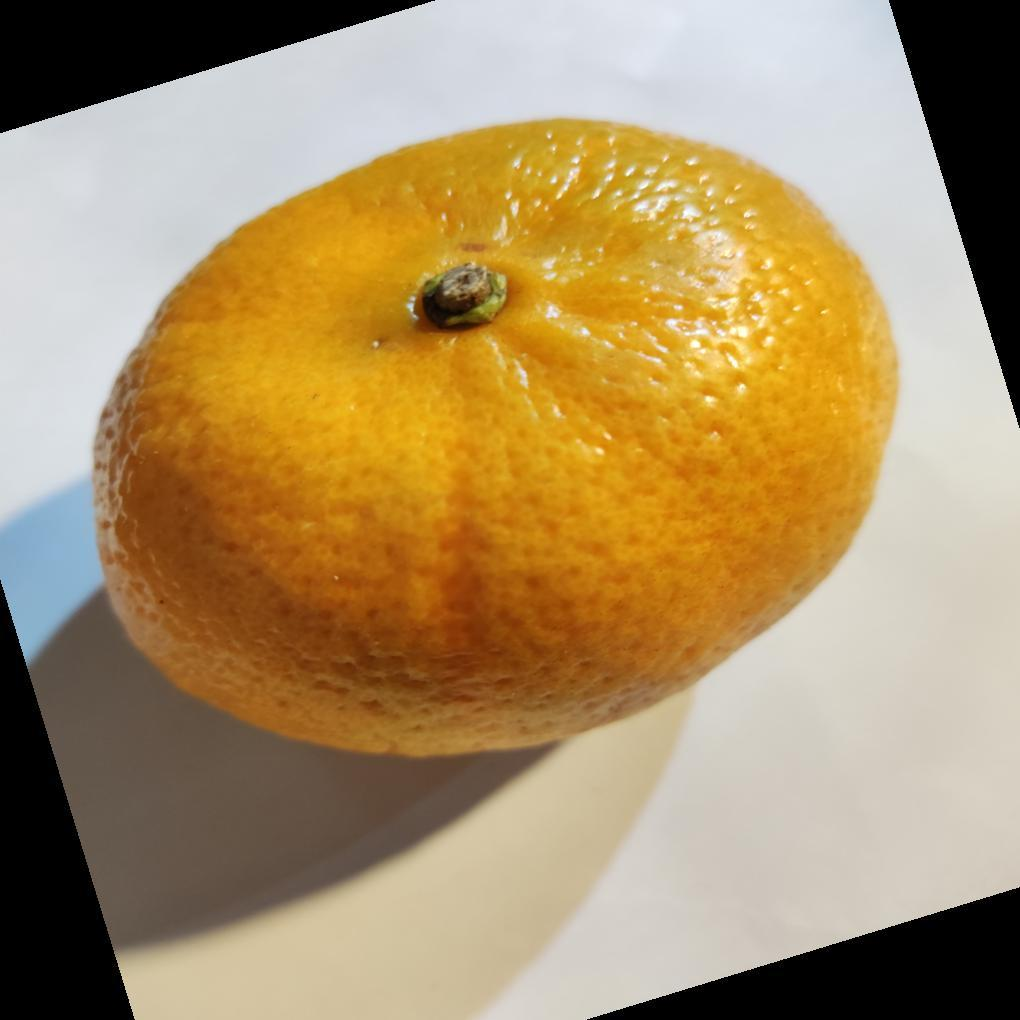FreshGuava: (88, 118, 902, 763)
